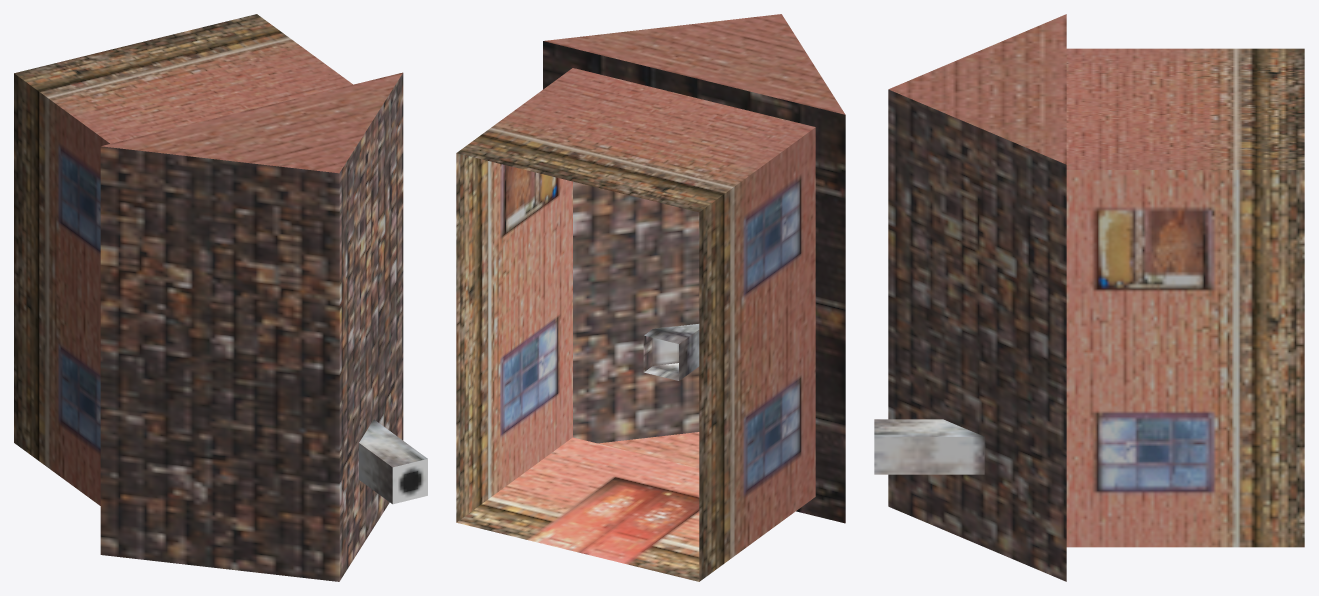
The model's file is house32poly_wtf.obj.
The picture shows the model from 3 angles, left to right: view 1: azimuth 30°, elevation 25°; view 2: azimuth 150°, elevation 25°; view 3: azimuth 270°, elevation 25°; orthographic projection. The views are drawn at different scales.
Visible parts, largest first — view 1: group2; view 2: group2; view 3: group2.
Boxes of the visible parts, x1=… form: group2: x1=14, y1=14, x2=427, y2=581; group2: x1=456, y1=14, x2=845, y2=581; group2: x1=874, y1=14, x2=1304, y2=581.
Bounding box in the file's own units: 512 × 660 × 617.
